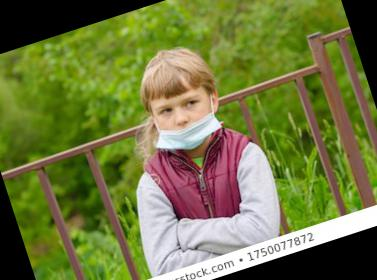mask_weared_incorrect: (154, 92, 215, 152)
